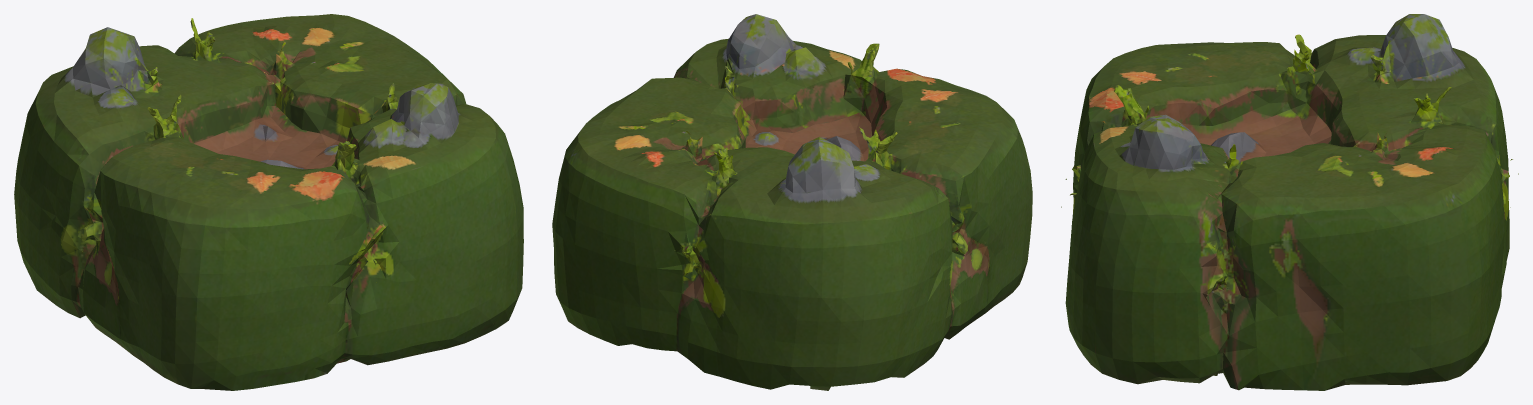
Rendered from Stage_05_Ground_DeepForest_000.fbx.
The picture shows the model from 3 angles, left to right: view 1: azimuth 30°, elevation 25°; view 2: azimuth 150°, elevation 25°; view 3: azimuth 270°, elevation 25°; orthographic projection. The views are drawn at different scales.
Parts seen in each view (by area): view 1: Stage_05_Ground_DeepForest_000; view 2: Stage_05_Ground_DeepForest_000; view 3: Stage_05_Ground_DeepForest_000.
Boxes of the visible parts, <box> form: Stage_05_Ground_DeepForest_000: <box>14,14,523,390</box>; Stage_05_Ground_DeepForest_000: <box>552,14,1032,390</box>; Stage_05_Ground_DeepForest_000: <box>1061,14,1518,390</box>.
Size of the model in its own units: 96.43 by 57.47 by 99.43.
